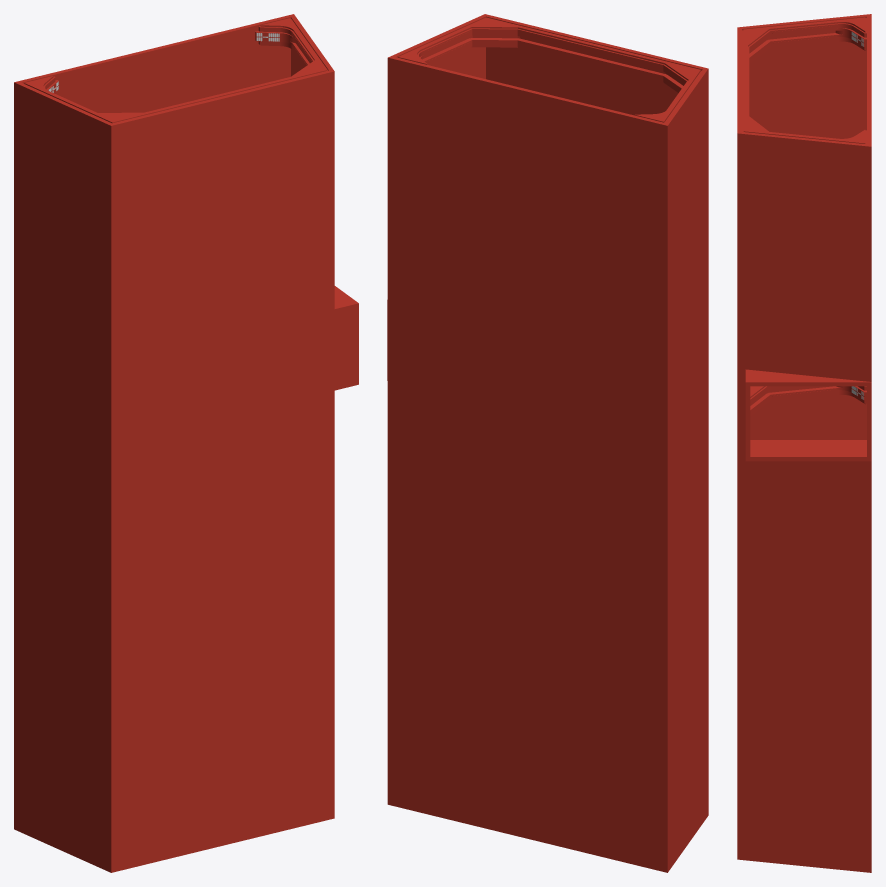
File: la_Raza_hallway_wide_open_room v1.fbx
3 renders of one model, left to right at view 1: azimuth 30°, elevation 25°; view 2: azimuth 150°, elevation 25°; view 3: azimuth 270°, elevation 25°, orthographic. The views are drawn at different scales.
Parts seen in each view (by area): view 1: Body21; view 2: Body21; view 3: Body21.
Part boxes in pixels (x1,y1,x2,y2): Body21: (14, 14, 358, 872); Body21: (387, 14, 708, 872); Body21: (737, 14, 871, 872).
Size of the model in its own units: 202 by 514 by 86.06.
